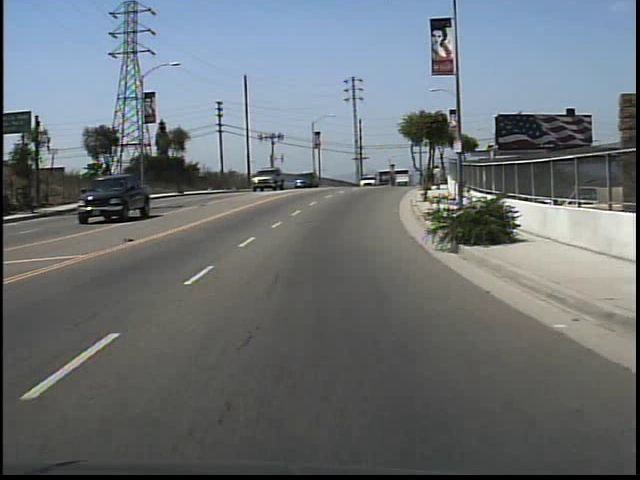person: (432, 164, 445, 192)
